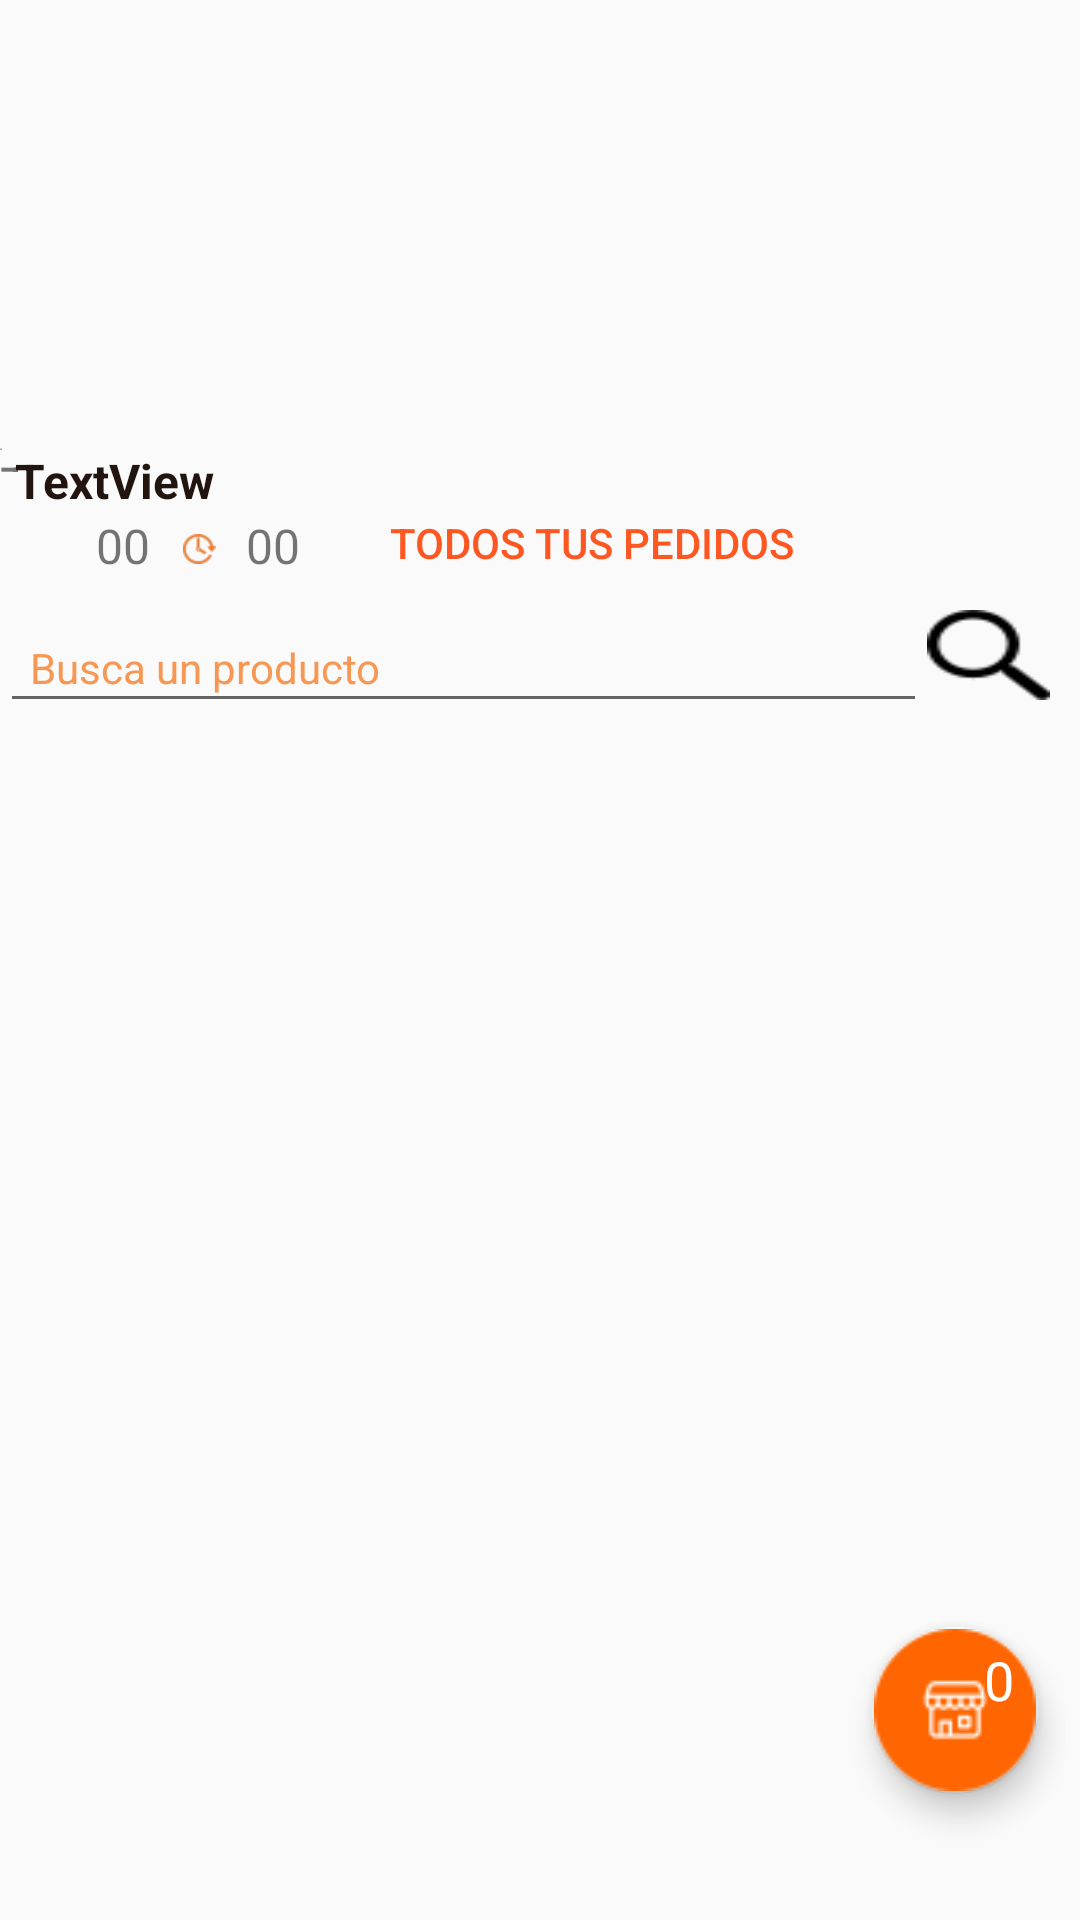

Where to tap for icons on this 1080 x 1920 app screen, as point (x, y):
lupa negro: point (988, 655)
reloj: point (199, 549)
